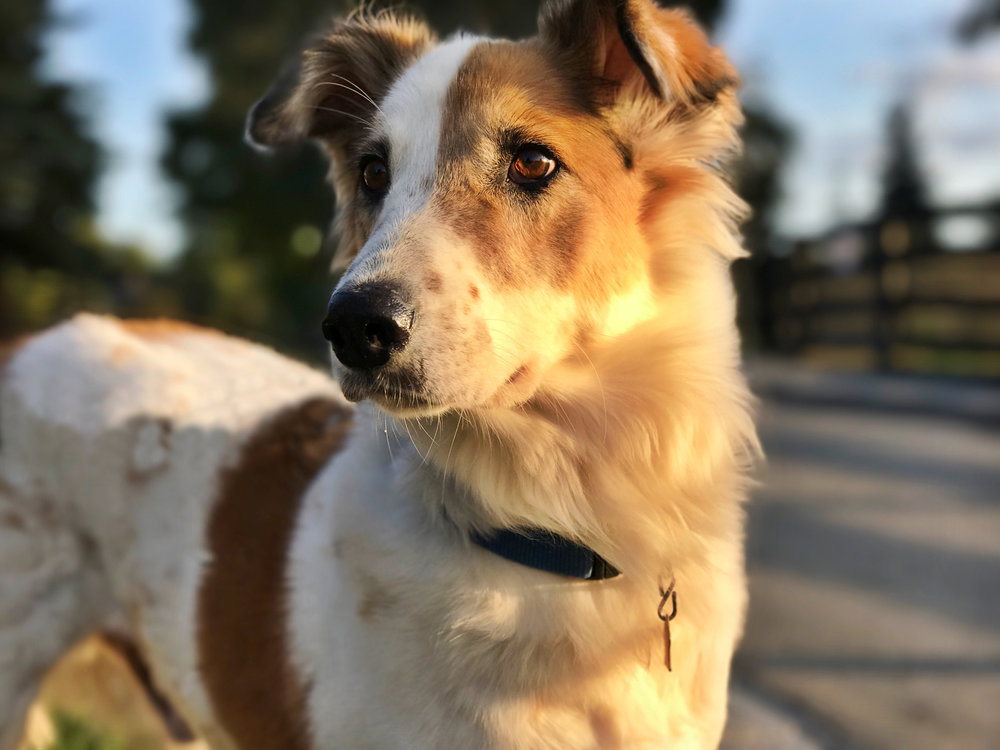dog: (47, 20, 765, 746)
